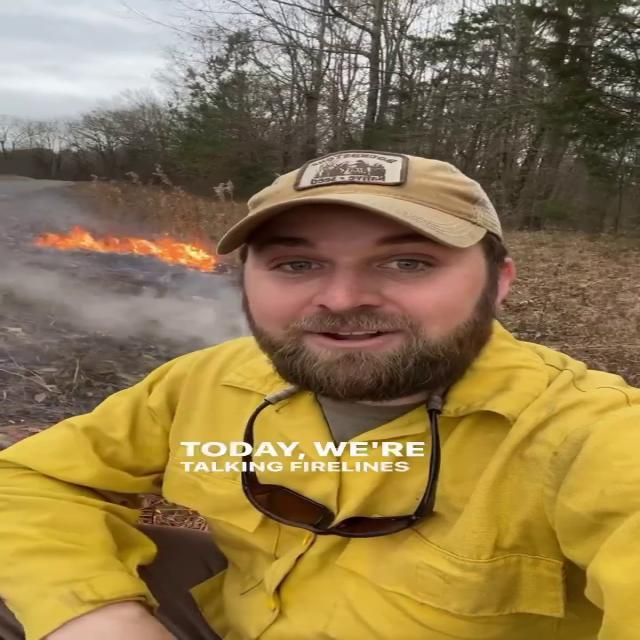Fire: (23, 224, 213, 272)
Smoke: (0, 255, 236, 358)
